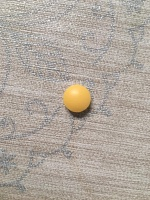Nurofen: (62, 84, 91, 114)
